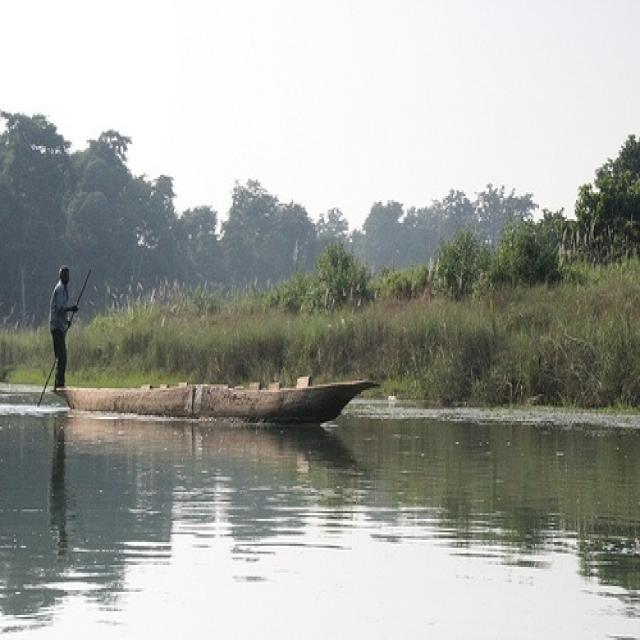boat: (44, 376, 394, 422)
